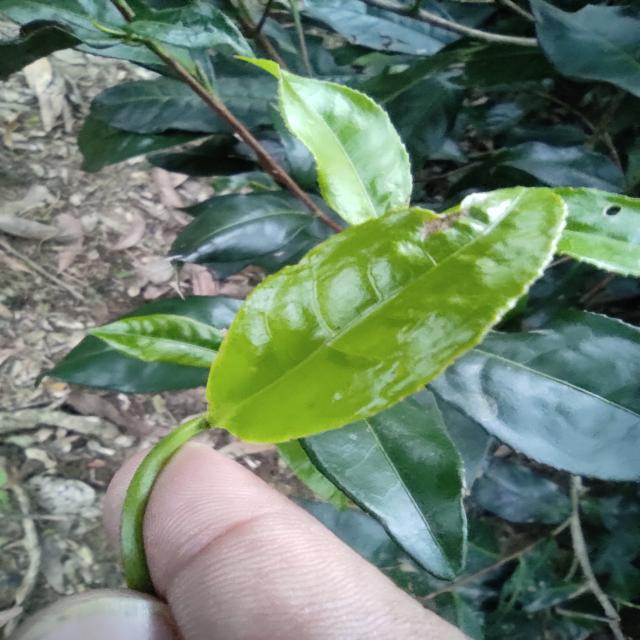Category C(4-7 days): (172, 150, 578, 468)
